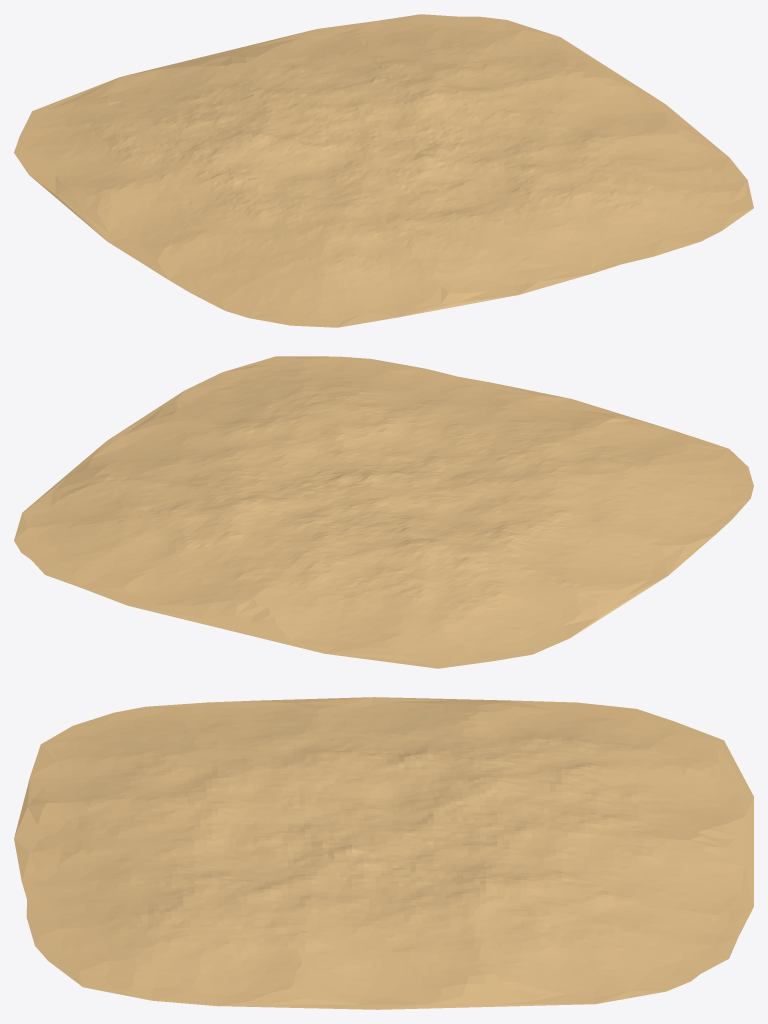
The model's file is MT_Island_H_c_05.fbx.
3 renders of one model, top to bottom at view 1: azimuth 30°, elevation 25°; view 2: azimuth 150°, elevation 25°; view 3: azimuth 270°, elevation 25°, orthographic. The views are drawn at different scales.
Visible parts, largest first — view 1: MT_Island_H_c_05; view 2: MT_Island_H_c_05; view 3: MT_Island_H_c_05.
Boxes of the visible parts, left/top/right/bottom form: MT_Island_H_c_05: left=14, top=14, right=753, bottom=327; MT_Island_H_c_05: left=14, top=356, right=753, bottom=668; MT_Island_H_c_05: left=14, top=697, right=753, bottom=1009.
Size of the model in its own units: 50000 by 1773 by 50000.
